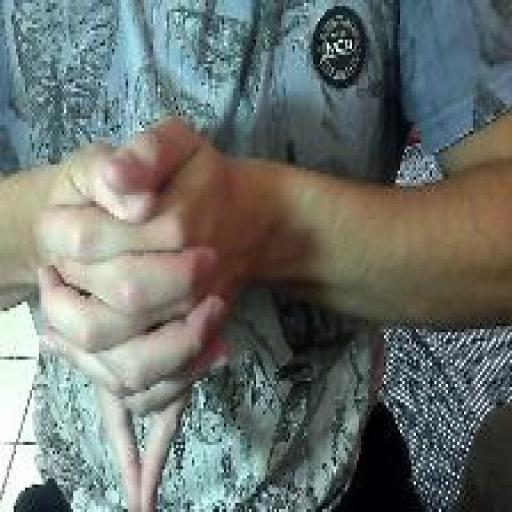Tatsu -dragon-: (34, 106, 233, 512)
